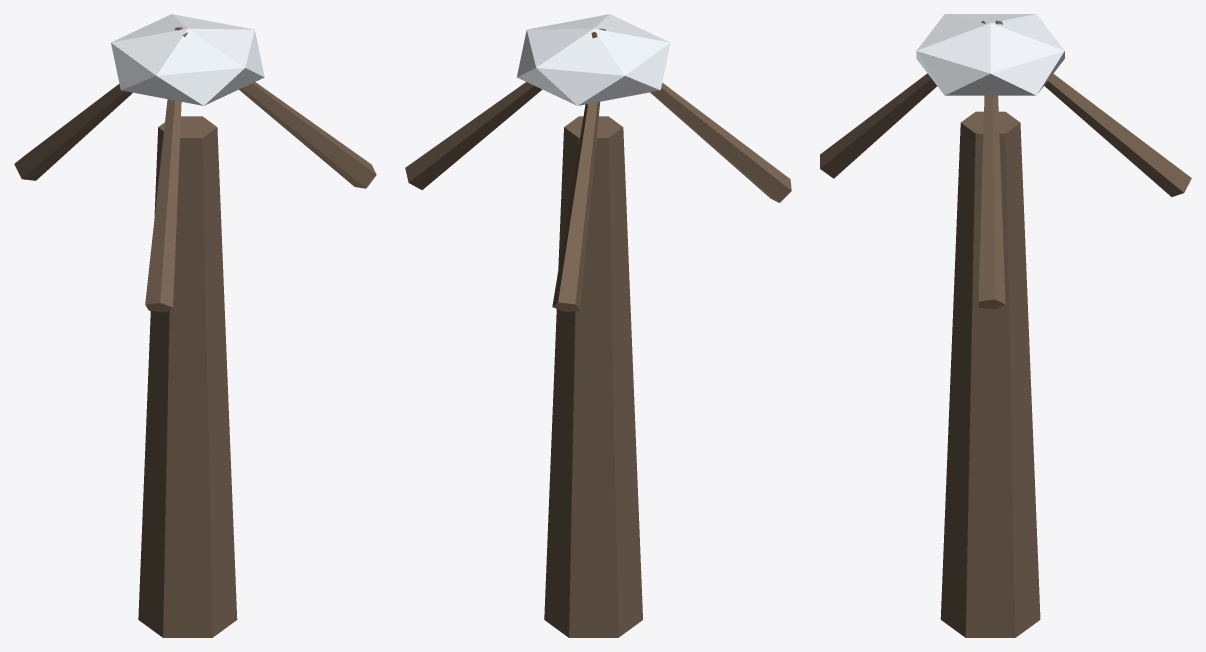
File: bare_tree.glb
The picture shows the model from 3 angles, left to right: view 1: azimuth 30°, elevation 25°; view 2: azimuth 150°, elevation 25°; view 3: azimuth 270°, elevation 25°; orthographic projection.
Parts seen in each view (by area): view 1: bare_tree; view 2: bare_tree; view 3: bare_tree.
Part boxes in pixels (x1,y1,x2,y2): bare_tree: (14,14,376,637); bare_tree: (405,14,791,637); bare_tree: (820,14,1191,637).
Size of the model in its own units: 1.43 by 2.64 by 1.49.
